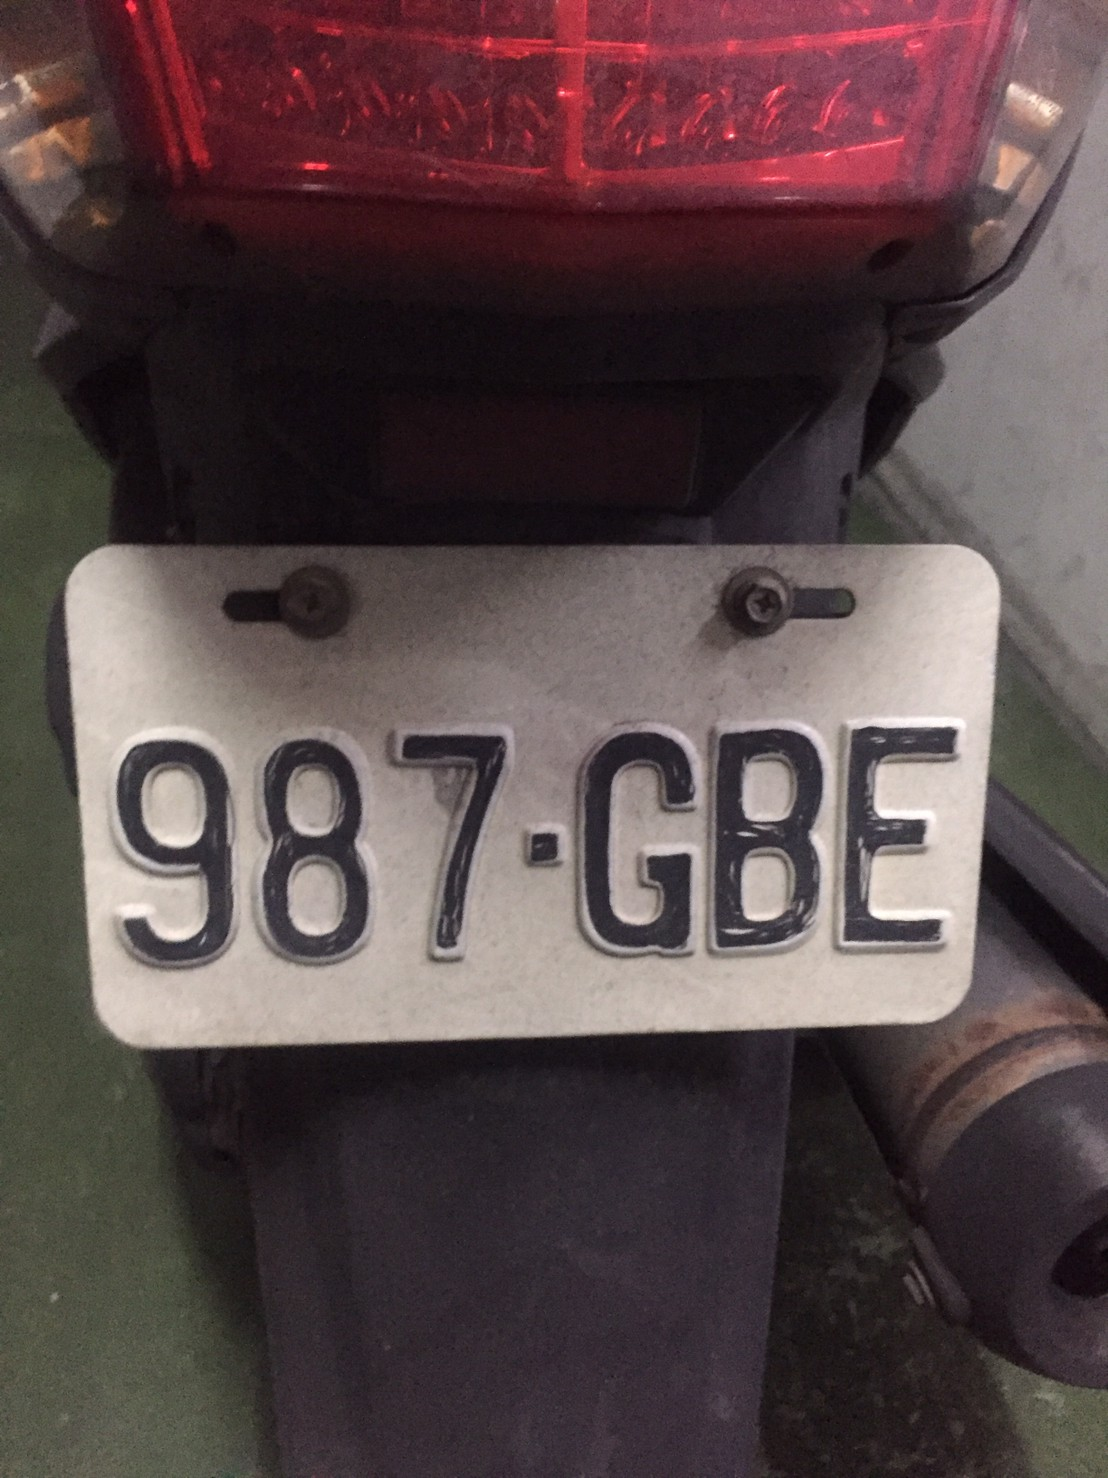LP: (84, 567, 972, 1019)
